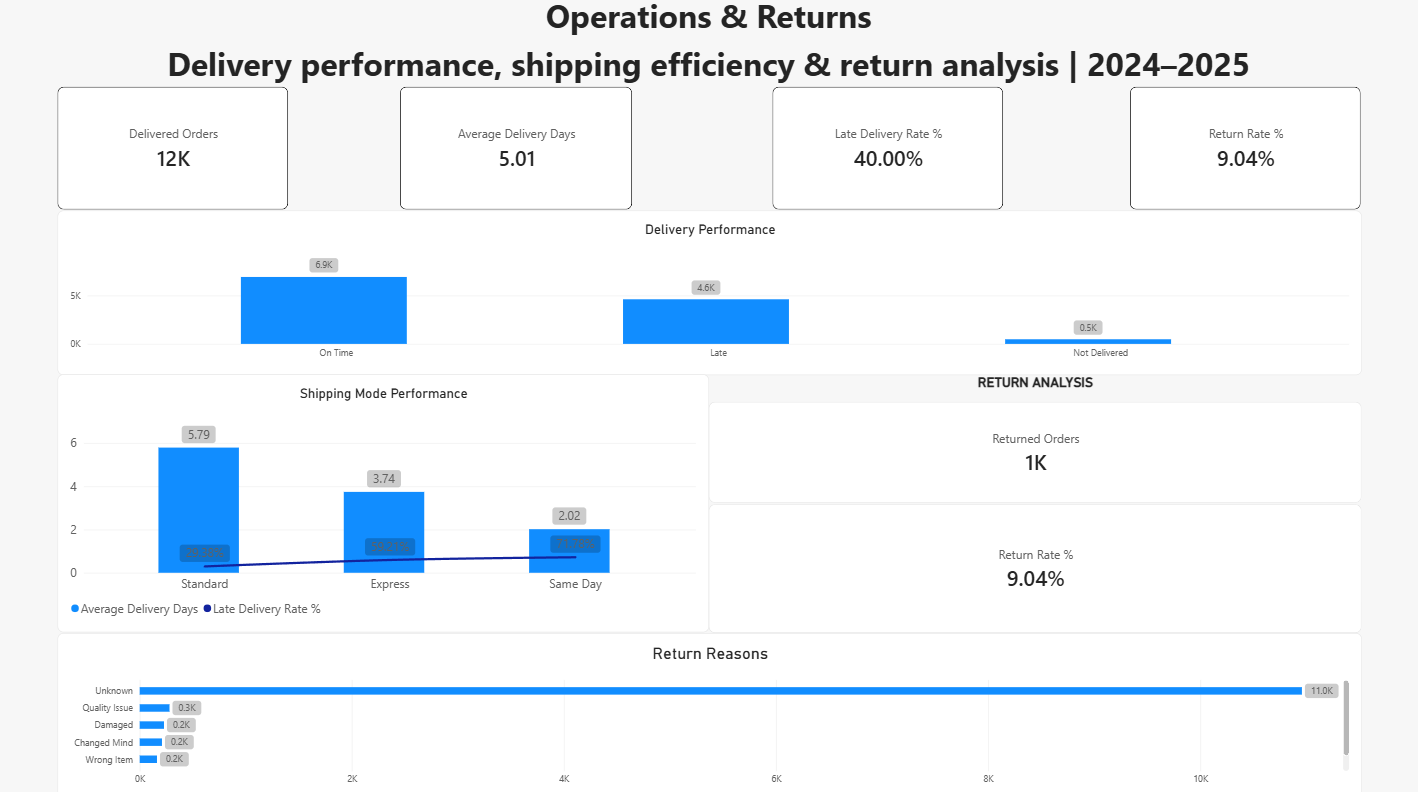

What the dashboard file says about the page in this screenshot:
{"tool":"powerbi","page":{"name":"Operations & Returns","canvas":[1920,1080],"ordinal":3},"visuals":[{"type":"textbox","box":[0,0,1920,65],"z":0},{"type":"textbox","box":[0,65,1920,60],"z":1},{"type":"cardVisual","fields":{"Data":["order_delivery_returns.Delivered Orders"]},"box":[90.6,125.6,308.7,164.7],"z":2},{"type":"cardVisual","fields":{"Data":["order_delivery_returns.Average Delivery Days"]},"box":[547.5,125.6,310.8,164.7],"z":3},{"type":"cardVisual","fields":{"Data":["order_delivery_returns.Late Delivery Rate %"]},"box":[1045.6,125.6,308.7,164.7],"z":4},{"type":"cardVisual","fields":{"Data":["order_delivery_returns.Return Rate %"]},"box":[1523.2,125.6,308.7,164.7],"z":5},{"type":"clusteredColumnChart","title":"Delivery Performance","fields":{"Category":["order_delivery_returns.delivery_status"],"Y":["Count(order_delivery_returns.order_id)"]},"box":[90,290,1742.5,220],"z":6},{"type":"lineClusteredColumnComboChart","title":"Shipping Mode Performance","fields":{"Category":["orders.shipping_mode"],"Y":["order_delivery_returns.Average Delivery Days"],"Y2":["order_delivery_returns.Late Delivery Rate %"]},"box":[90,510,870,345],"z":7},{"type":"cardVisual","title":"RETURN ANALYSIS","fields":{"Data":["order_delivery_returns.Returned Orders"]},"box":[960,510,872.5,172.5],"z":8},{"type":"cardVisual","fields":{"Data":["order_delivery_returns.Return Rate %"]},"box":[960,682.5,872.5,172.5],"z":9},{"type":"clusteredBarChart","title":"Return Reasons","fields":{"Category":["order_delivery_returns.return_reason"],"Y":["Count(order_delivery_returns.order_id)"]},"box":[90,855,1742.5,225],"z":10}]}

Visuals, with their boxes in screenshot pixels (x1, y1, x2, y2), scaled from the page's 1920x1080 canvas onto the 1418x792 screenshot:
textbox: 0/0/1417/48
textbox: 0/48/1417/92
cardVisual - order_delivery_returns.Delivered Orders: 67/92/295/213
cardVisual - order_delivery_returns.Average Delivery Days: 404/92/634/213
cardVisual - order_delivery_returns.Late Delivery Rate %: 772/92/1000/213
cardVisual - order_delivery_returns.Return Rate %: 1125/92/1353/213
"Delivery Performance" clusteredColumnChart: 66/213/1353/374
"Shipping Mode Performance" lineClusteredColumnComboChart: 66/374/709/627
"RETURN ANALYSIS" cardVisual: 709/374/1353/500
cardVisual - order_delivery_returns.Return Rate %: 709/500/1353/627
"Return Reasons" clusteredBarChart: 66/627/1353/791
